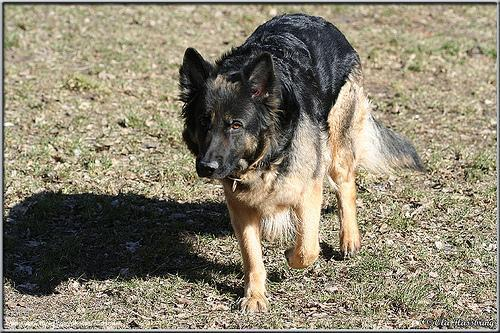German_shepherd: (180, 14, 427, 319)
